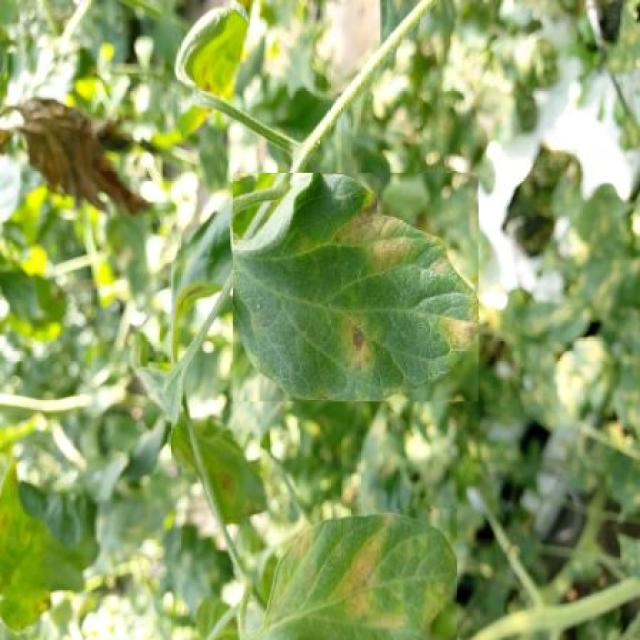Leaf Mold: (234, 174, 479, 402), (257, 508, 456, 640)
